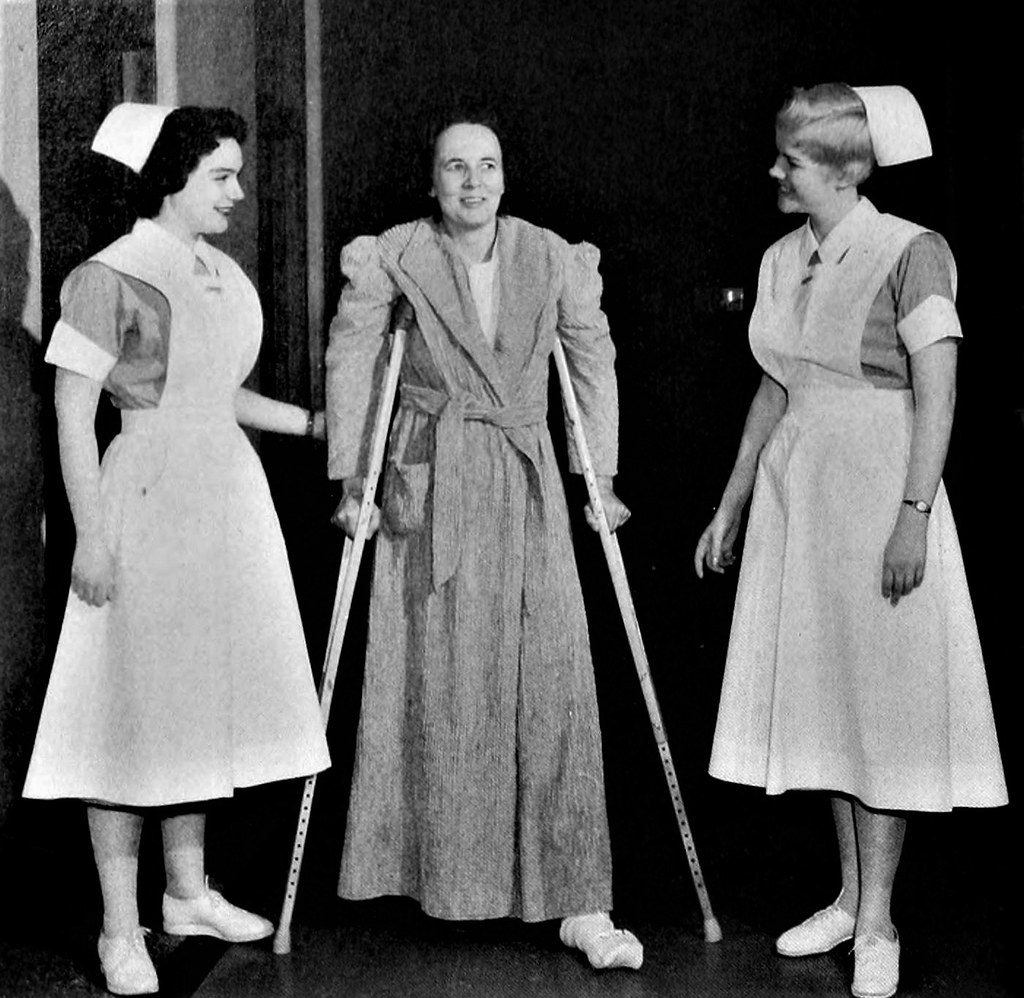crutches: (272, 108, 725, 974)
